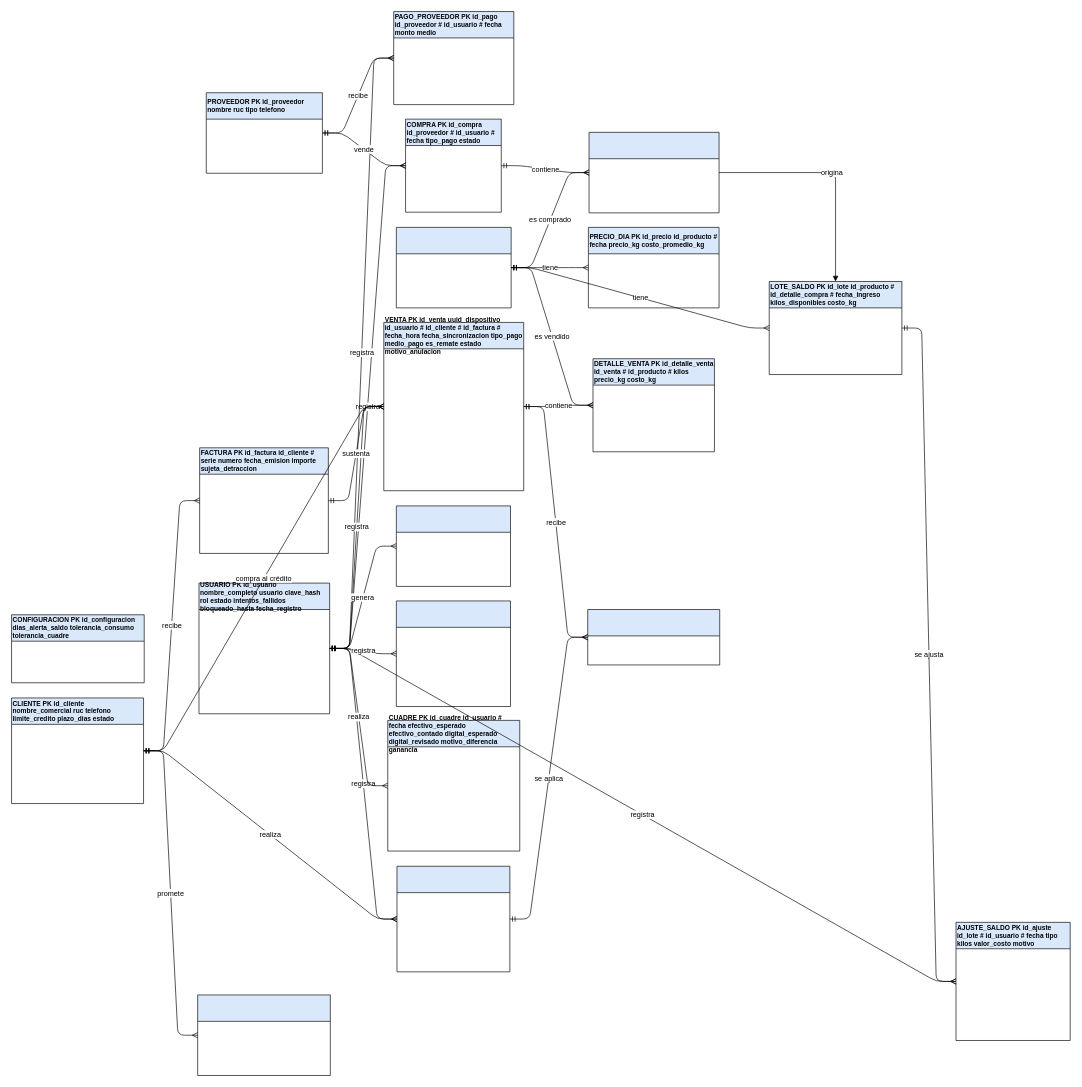
This 1082x1087 diagram has some shape labels left out. The centre of each missing label's shape, as x and y in pixels:
ABONO PK id_abono id_cliente # id_usuario # fecha monto medio estado: pixel 453 919
ABONO_VENTA PK id_abono # PK id_venta # monto_aplicado: pixel 653 637
AUDITORIA PK id_auditoria id_usuario # fecha_hora operacion detalle: pixel 453 545
COMPROMISO_PAGO PK id_compromiso id_cliente # fecha_compromiso monto estado: pixel 263 1034
DETALLE_COMPRA PK id_detalle_compra id_compra # id_producto # kilos costo_total: pixel 653 172
GASTO PK id_gasto id_usuario # fecha concepto descripcion monto medio: pixel 453 653
PRODUCTO PK id_producto nombre nombre_corto categoria estado: pixel 453 267
